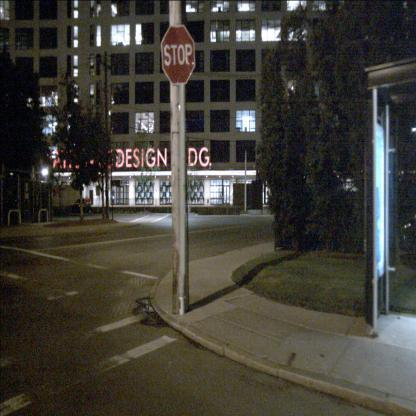human-pedestrian-adult: (264, 191, 271, 211), (138, 118, 140, 134)
vehicle-car: (72, 198, 92, 214)
